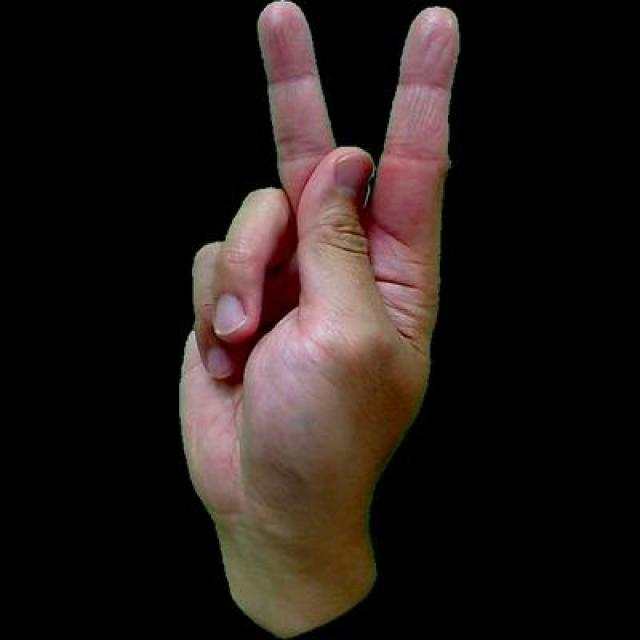k: (174, 0, 461, 637)
